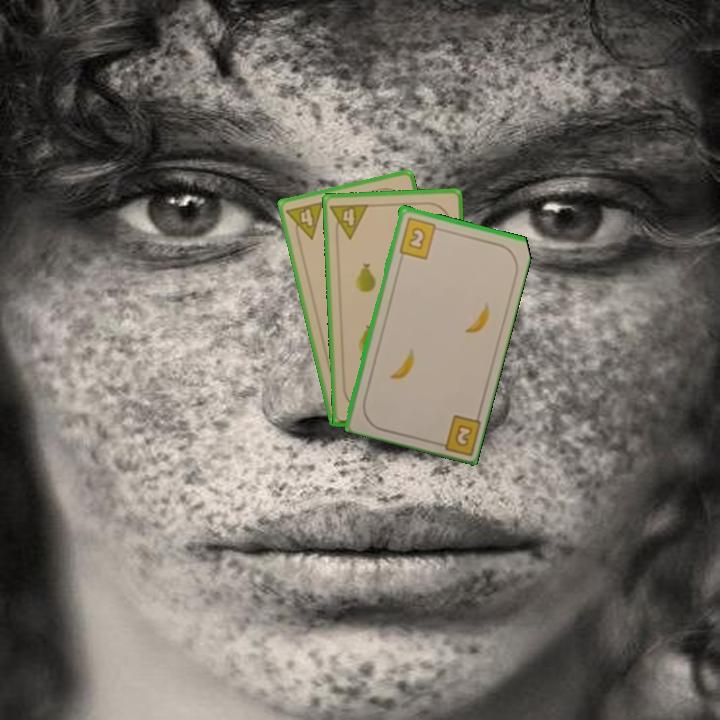2b: (430, 411, 482, 456), (395, 214, 444, 261)
4p: (283, 198, 327, 245), (327, 200, 371, 242)
